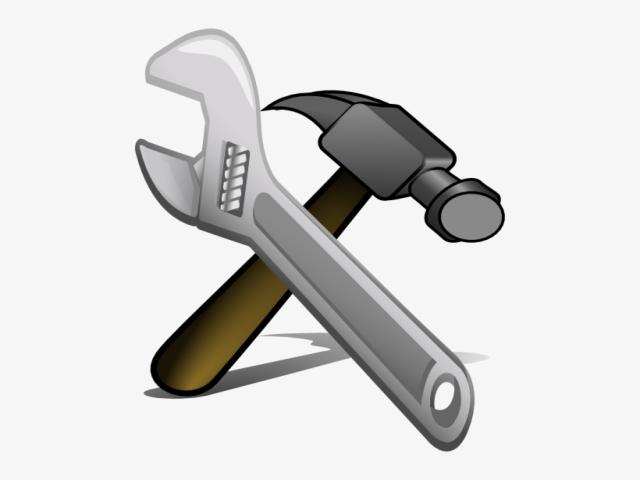Adjustable spanner: (136, 30, 474, 450)
Hammer: (151, 91, 508, 399)
